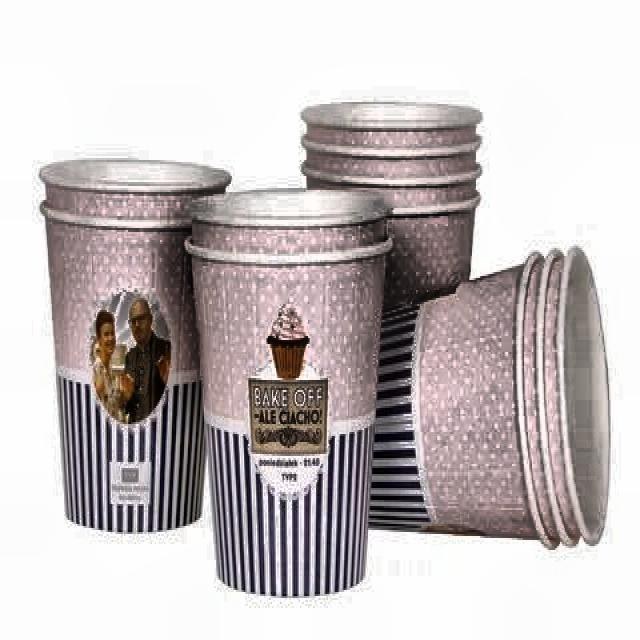Cup: (334, 249, 627, 569), (191, 178, 391, 606), (29, 149, 229, 555), (298, 90, 478, 524)
